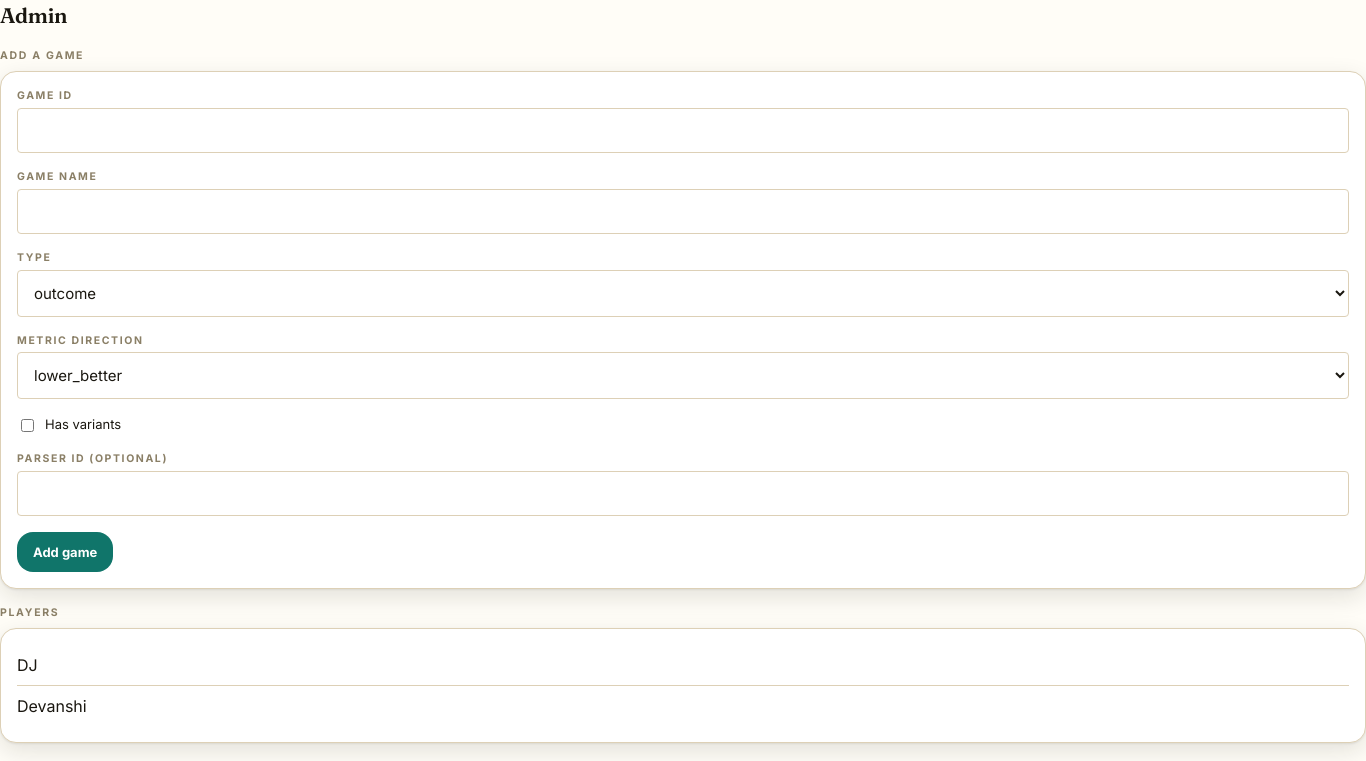
Admin › submits the new game fields to postAdminGame without a passphrase
Expected: the text "DJ" is shown, [17, 653, 38, 677]
In the field labelled "Game id": (683, 130) [17, 108, 1349, 153], type "pips"
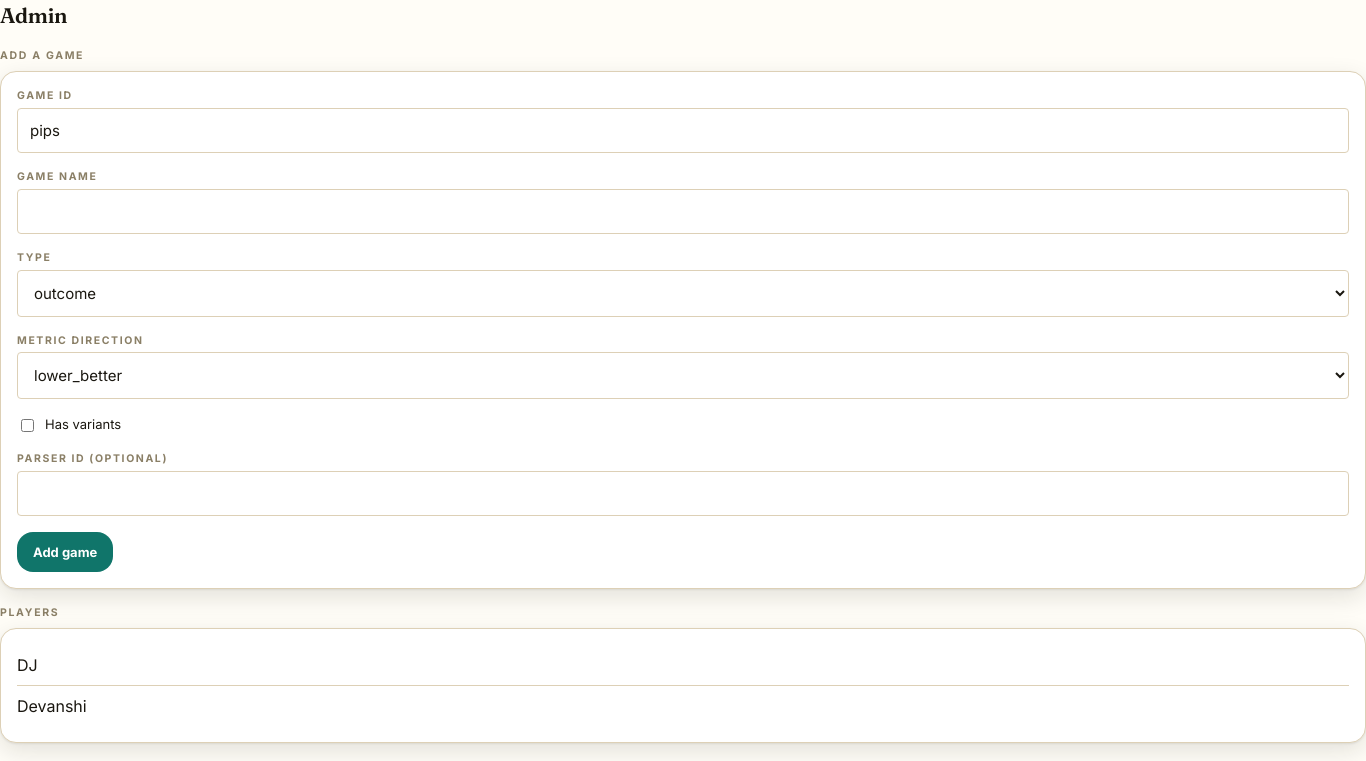
In the field labelled "Game name": (683, 211) [17, 189, 1349, 234], type "Pips"
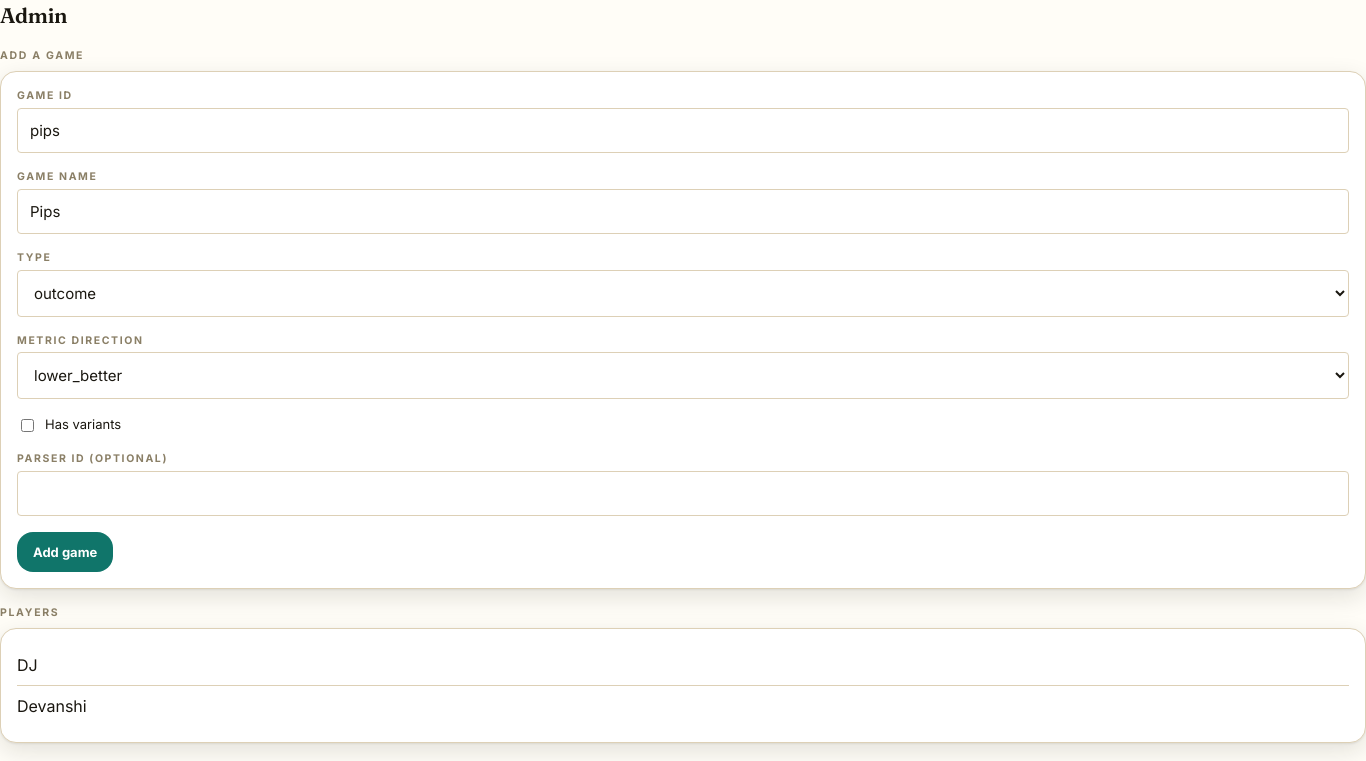
Select "timed" in the dropdown labelled "Type": (683, 293) [17, 270, 1349, 316]
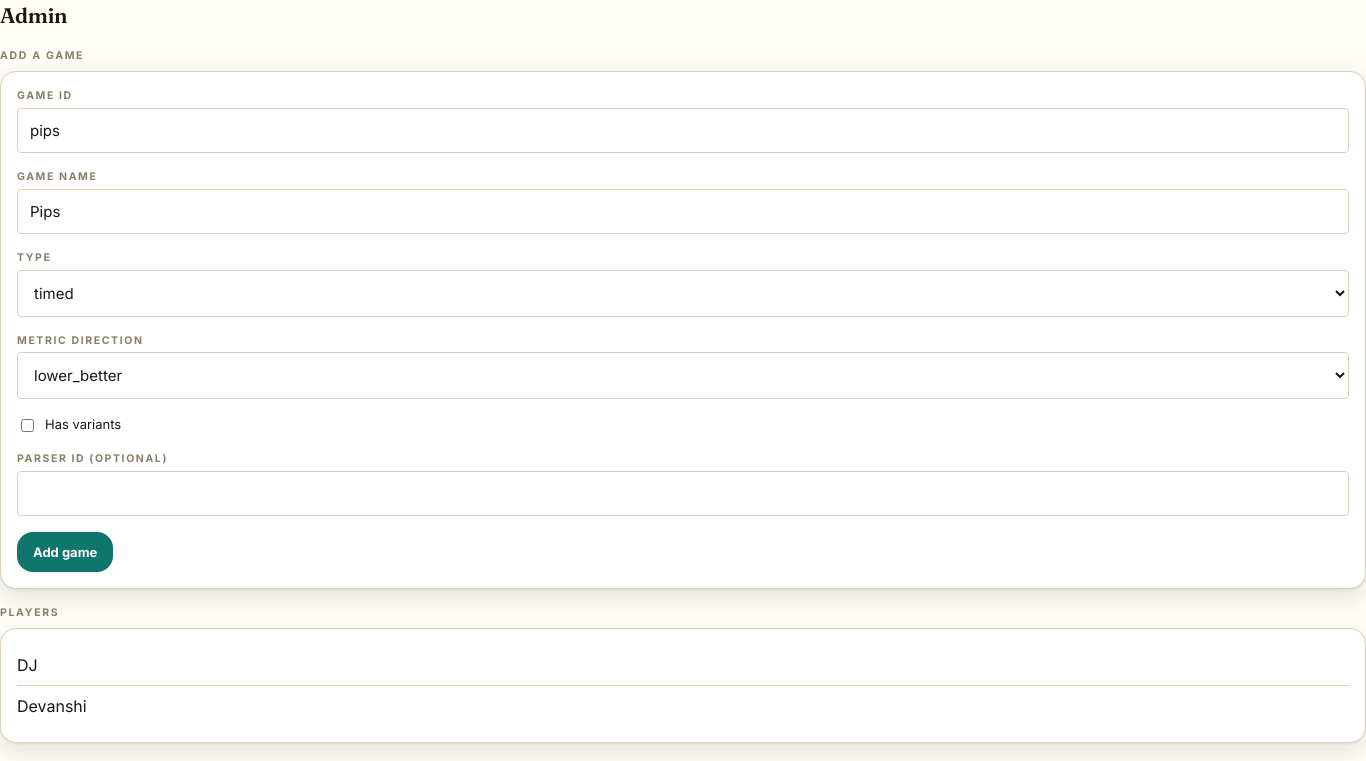
Select "lower_better" in the dropdown labelled "Metric direction": (683, 376) [17, 352, 1349, 399]
Click the checkbox labelled "Has variants": (28, 425) [21, 418, 34, 432]
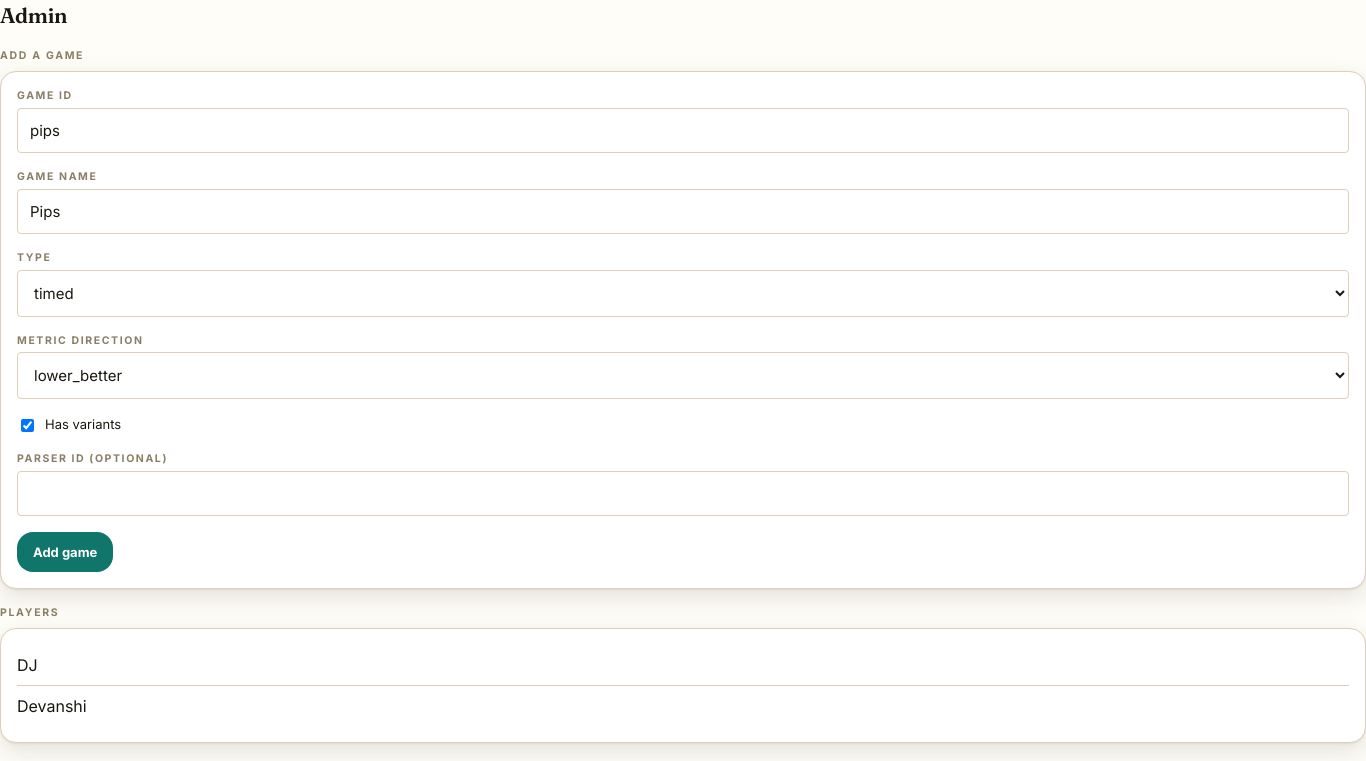
In the field labelled "Parser id (optional)": (683, 493) [17, 470, 1349, 516], type "pips-parser"
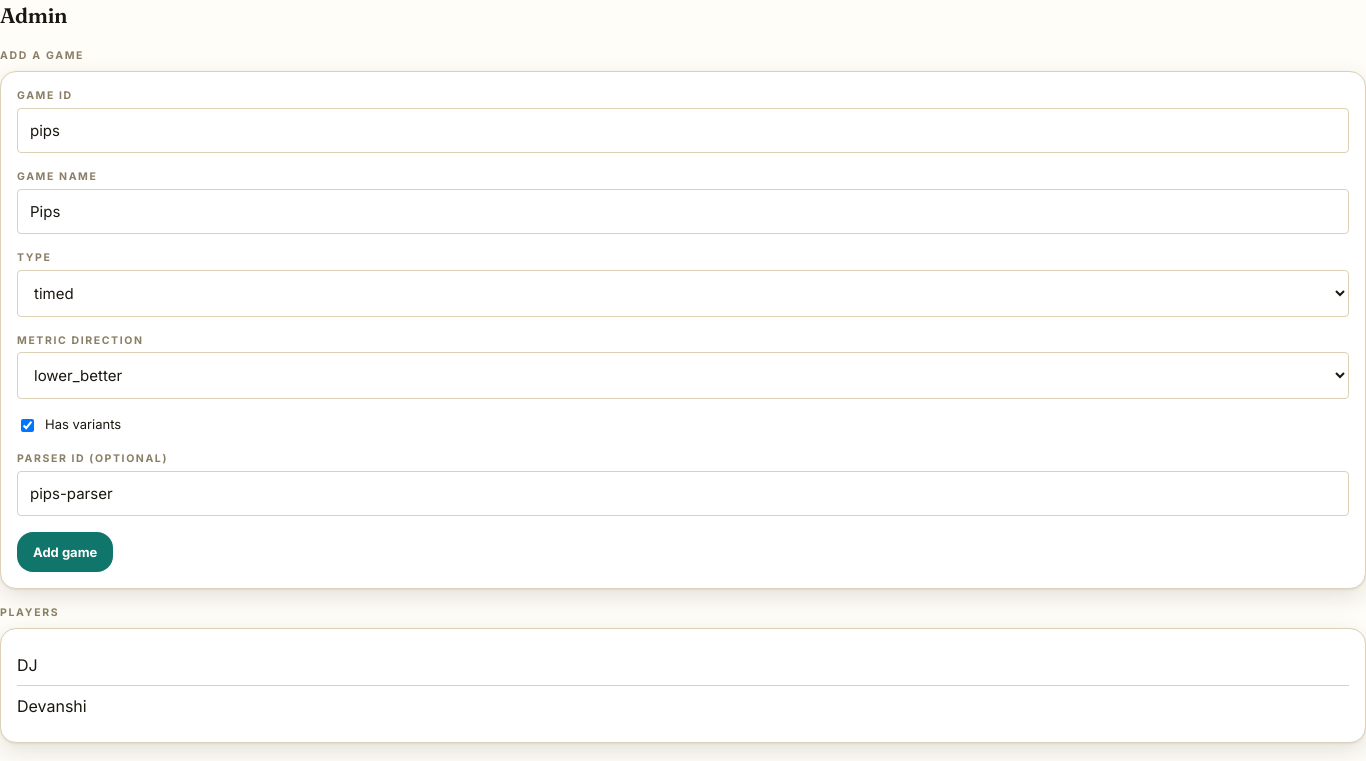
Click the button "Add game": (65, 552) [17, 532, 113, 572]
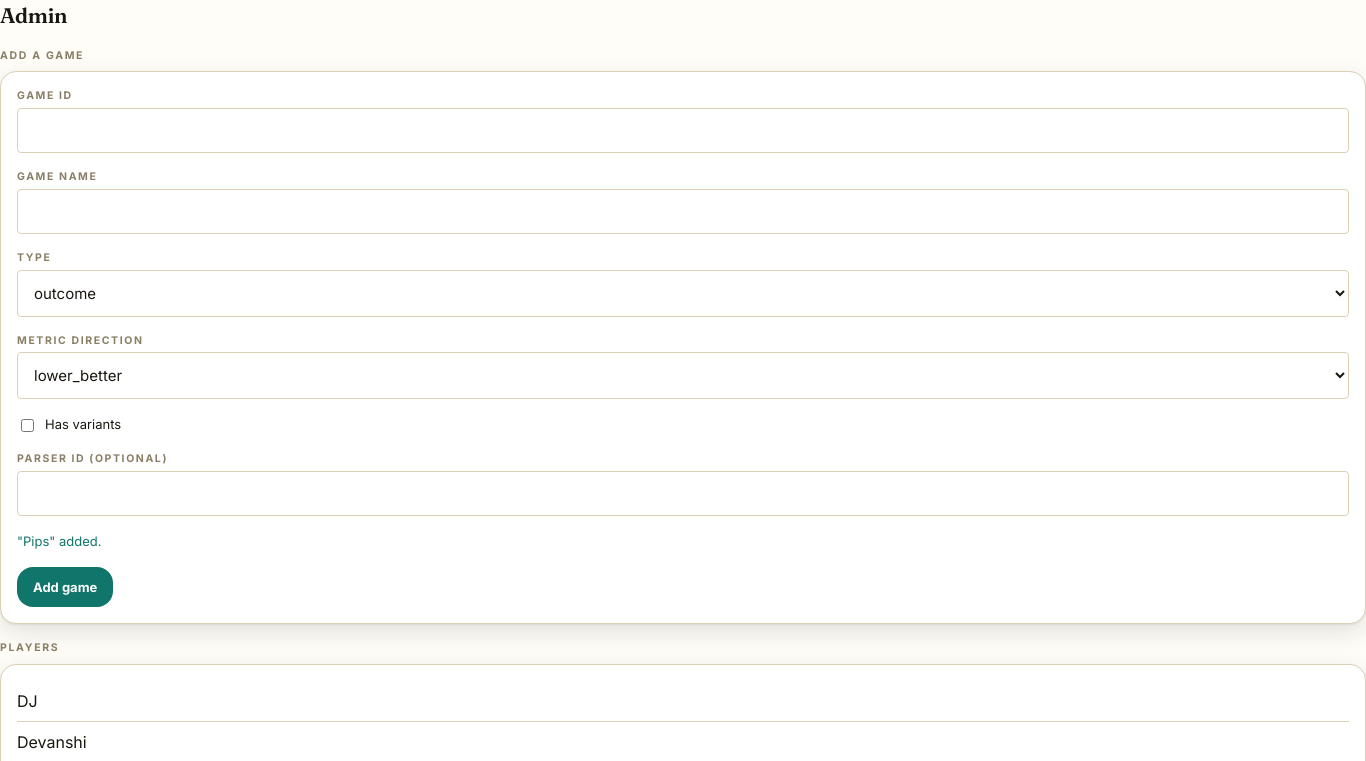
Expected: the text "\"Pips\" added." is shown, [17, 532, 102, 548]
